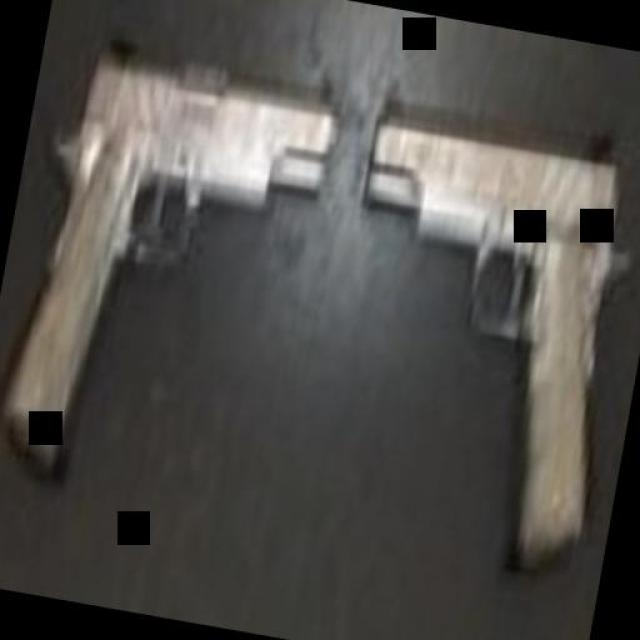gun: (0, 6, 351, 509), (304, 70, 640, 591)
